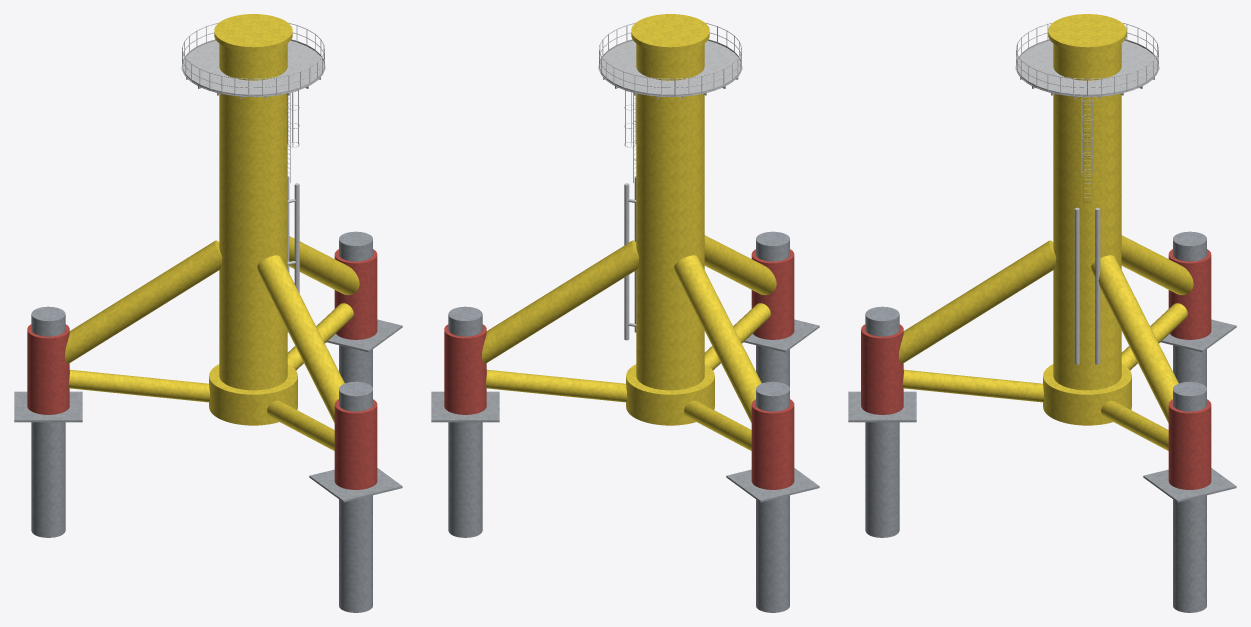
Rendered from offshore-wind-tripod-foundations.glb.
3 renders of one model, left to right at view 1: azimuth 30°, elevation 25°; view 2: azimuth 150°, elevation 25°; view 3: azimuth 270°, elevation 25°, orthographic.
Parts seen in each view (by area): view 1: CentralColumn, Piles(context), UpperLegs, PileSleeves, AccessPlatform, LowerBraces, MudMats; view 2: CentralColumn, Piles(context), UpperLegs, PileSleeves, AccessPlatform, LowerBraces, MudMats; view 3: CentralColumn, Piles(context), UpperLegs, PileSleeves, AccessPlatform, LowerBraces, MudMats.
Boxes of the visible parts, x1,y1,x2,y2 form: CentralColumn: [209, 14, 297, 425]; Piles(context): [31, 231, 372, 612]; UpperLegs: [65, 236, 359, 422]; PileSleeves: [27, 249, 377, 489]; AccessPlatform: [181, 22, 325, 332]; LowerBraces: [68, 303, 353, 450]; MudMats: [14, 319, 402, 502]; CentralColumn: [626, 14, 714, 425]; Piles(context): [448, 231, 789, 612]; UpperLegs: [482, 235, 776, 422]; PileSleeves: [444, 249, 794, 489]; AccessPlatform: [598, 22, 742, 340]; LowerBraces: [485, 303, 770, 450]; MudMats: [431, 319, 819, 502]; CentralColumn: [1043, 14, 1131, 425]; Piles(context): [865, 231, 1206, 612]; UpperLegs: [898, 235, 1193, 422]; PileSleeves: [861, 249, 1211, 489]; AccessPlatform: [1015, 22, 1159, 364]; LowerBraces: [902, 303, 1187, 450]; MudMats: [848, 319, 1236, 502].
Size of the model in its own units: 26.25 by 32.3 by 22.73.
5 materials, 5 textured.
